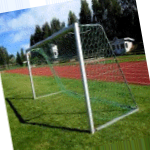goals: (21, 20, 140, 135)
